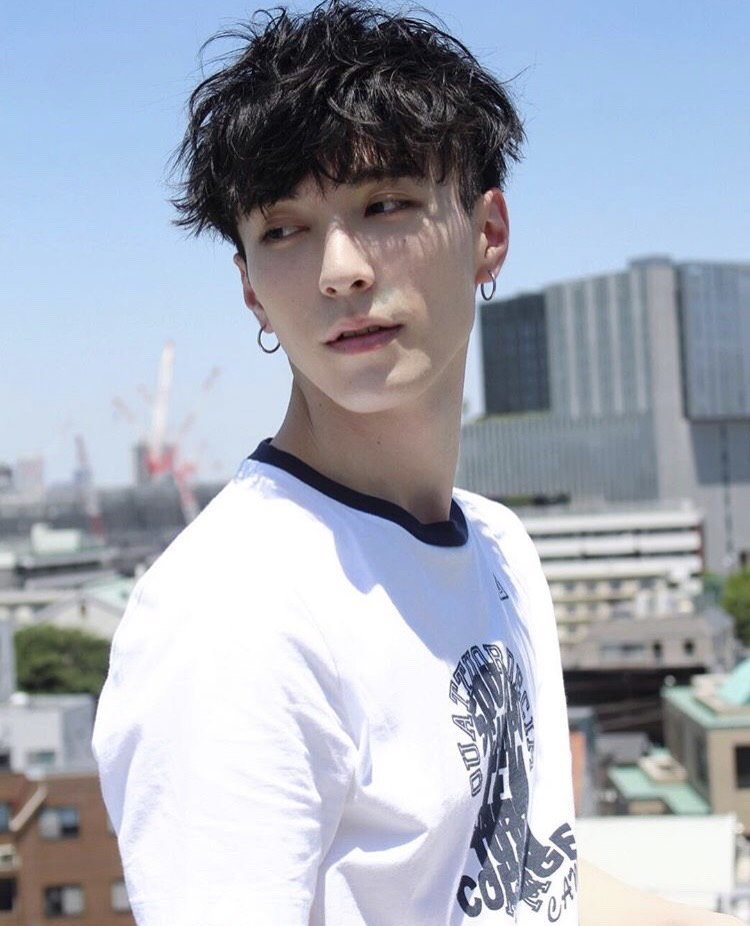people: (95, 9, 580, 926)
